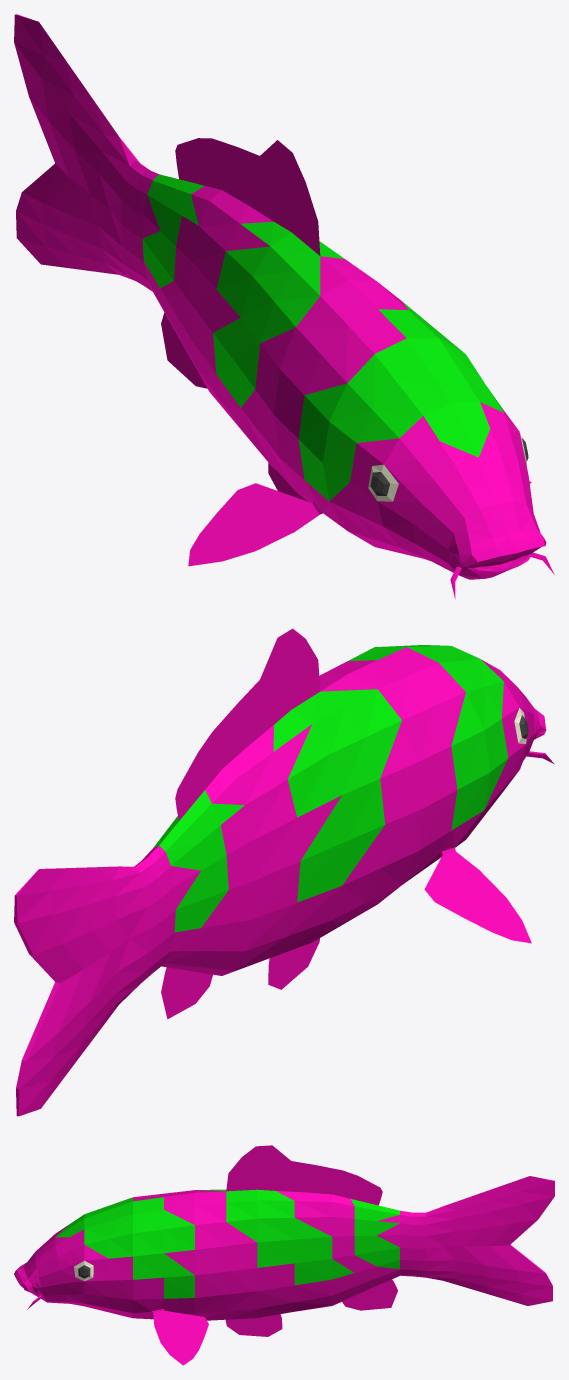
The model's file is Koi_Tri_recolor.fbx.
3 views of the same model, one above another, from view 1: azimuth 30°, elevation 25°; view 2: azimuth 150°, elevation 25°; view 3: azimuth 270°, elevation 25° (orthographic). The views are drawn at different scales.
Visible parts, largest first — view 1: Koi.002; view 2: Koi.002; view 3: Koi.002.
Boxes of the visible parts, x1,y1,x2,y2 form: Koi.002: [14, 14, 554, 598]; Koi.002: [14, 628, 553, 1116]; Koi.002: [14, 1145, 554, 1365].
Size of the model in its own units: 222 by 219 by 562.
